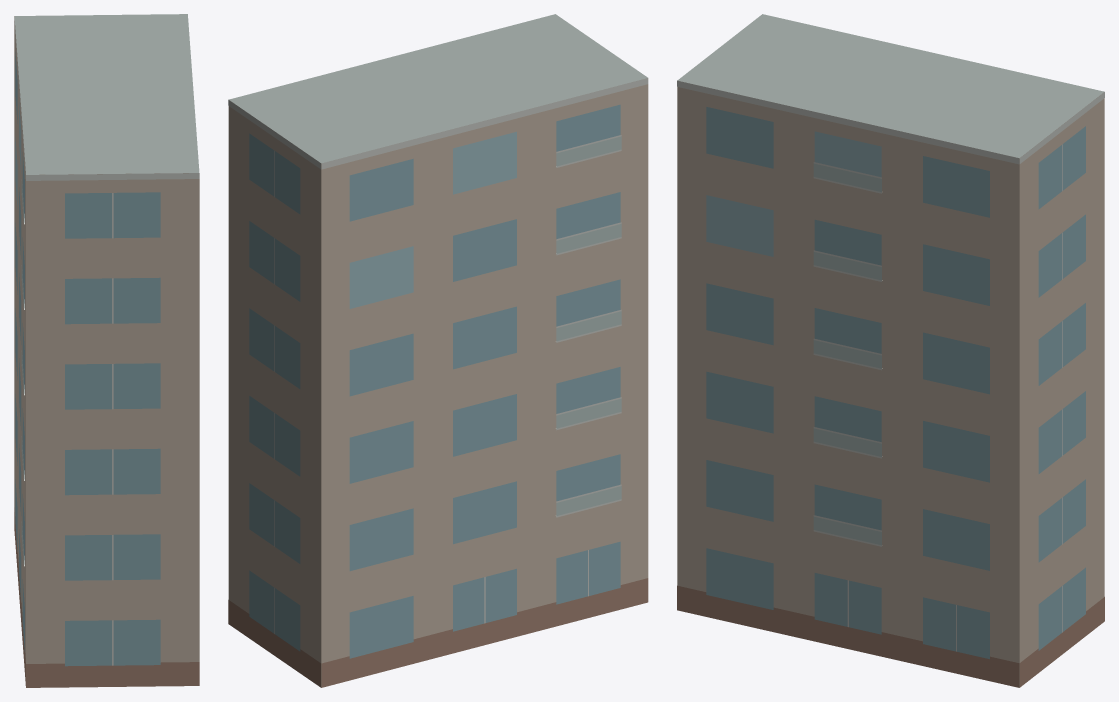
The model's file is survey-upis-32660446.glb.
3 renders of one model, left to right at view 1: azimuth 30°, elevation 25°; view 2: azimuth 150°, elevation 25°; view 3: azimuth 270°, elevation 25°, orthographic. The views are drawn at different scales.
Parts seen in each view (by area): view 1: survey-upis-32660446.tmp; view 2: survey-upis-32660446.tmp; view 3: survey-upis-32660446.tmp.
Part boxes in pixels (bbox=[...]): survey-upis-32660446.tmp: bbox=[14, 14, 199, 687]; survey-upis-32660446.tmp: bbox=[228, 14, 648, 687]; survey-upis-32660446.tmp: bbox=[677, 14, 1104, 687].
Size of the model in its own units: 12.1 by 20.7 by 15.15.
